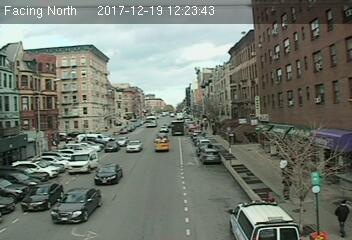car: (51, 187, 99, 225), (19, 181, 63, 212), (93, 162, 122, 184), (200, 148, 221, 164), (153, 138, 168, 151), (126, 140, 142, 152), (103, 141, 119, 152)
police: (229, 200, 306, 240)
truck: (68, 150, 94, 173)
ups: (170, 120, 185, 136)
